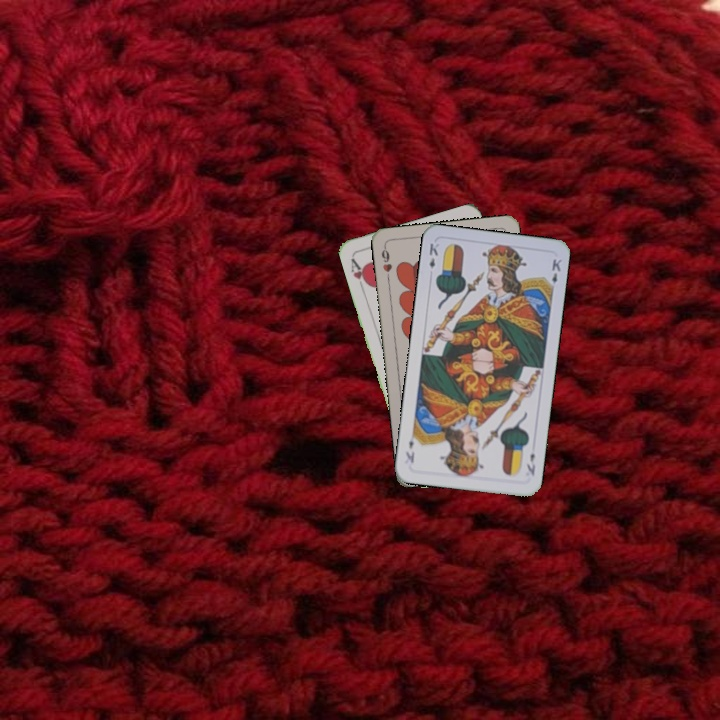EK: (425, 239, 442, 271), (523, 449, 538, 478)
H9: (377, 243, 395, 283)
HA: (347, 254, 372, 293)
